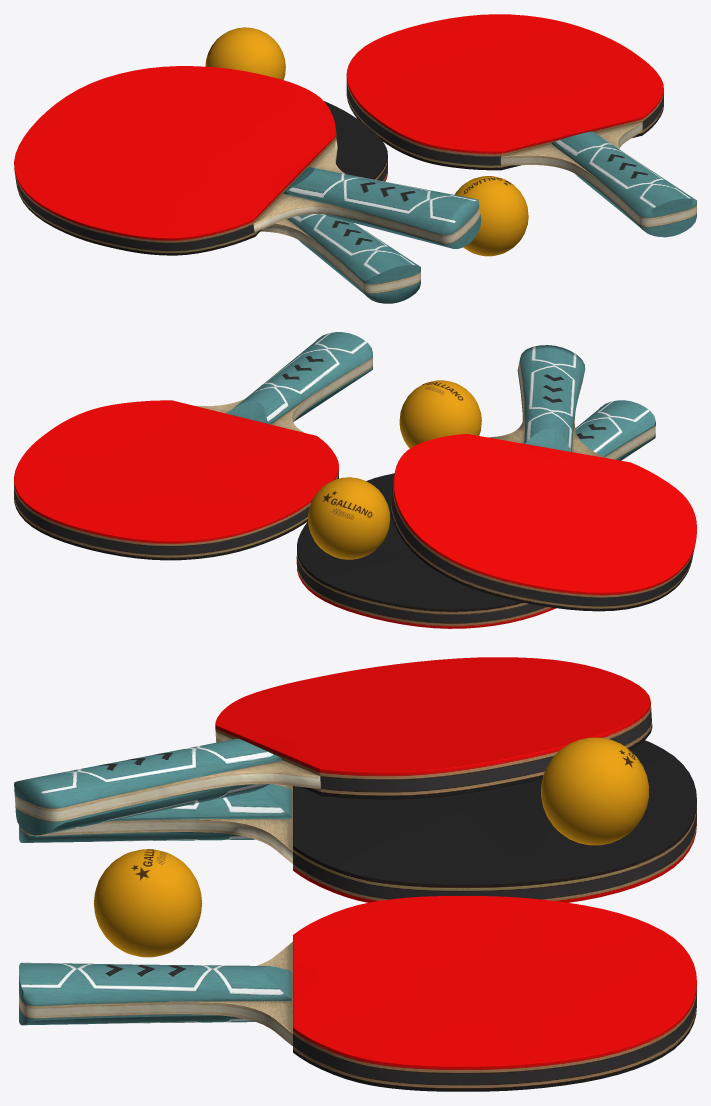
The model's file is ping-pong-set-BKw5jrG6.glb.
The picture shows the model from 3 angles, top to bottom: view 1: azimuth 30°, elevation 25°; view 2: azimuth 150°, elevation 25°; view 3: azimuth 270°, elevation 25°; orthographic projection. The views are drawn at different scales.
Visible parts, largest first — view 1: SM_PingPongPaddle_Show_M_PingPongPaddle_0, SM_PingPongPaddle_Show_M_PingPongBall_0; view 2: SM_PingPongPaddle_Show_M_PingPongPaddle_0, SM_PingPongPaddle_Show_M_PingPongBall_0; view 3: SM_PingPongPaddle_Show_M_PingPongPaddle_0, SM_PingPongPaddle_Show_M_PingPongBall_0.
Boxes of the visible parts, x1,y1,x2,y2 form: SM_PingPongPaddle_Show_M_PingPongPaddle_0: [14, 14, 696, 303]; SM_PingPongPaddle_Show_M_PingPongBall_0: [205, 27, 528, 256]; SM_PingPongPaddle_Show_M_PingPongPaddle_0: [14, 332, 696, 628]; SM_PingPongPaddle_Show_M_PingPongBall_0: [308, 380, 481, 559]; SM_PingPongPaddle_Show_M_PingPongPaddle_0: [14, 657, 696, 1091]; SM_PingPongPaddle_Show_M_PingPongBall_0: [93, 737, 648, 957].
Bounding box in the file's own units: 0.3481 × 0.065 × 0.2519.
Materials: 2 (2 with a texture image).
